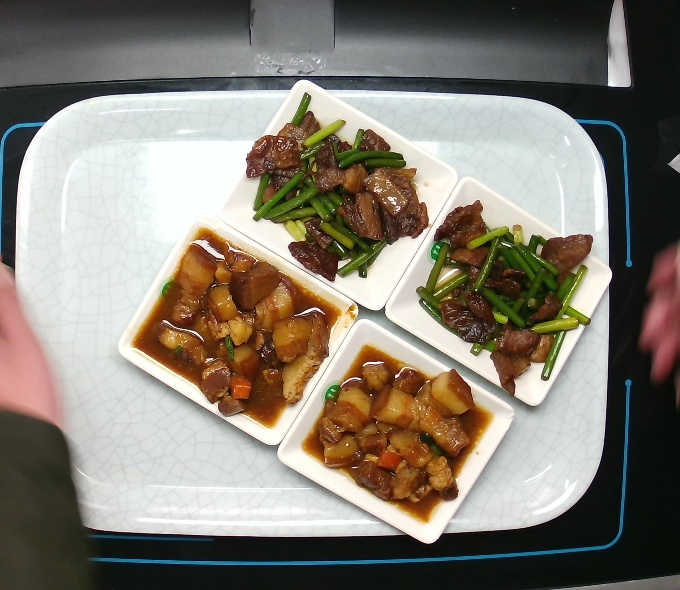wcq-HongShaoRou: (136, 228, 335, 420), (305, 349, 492, 523)
wcq-SuanMiaoChaoRou: (242, 88, 436, 285), (406, 201, 600, 398)
